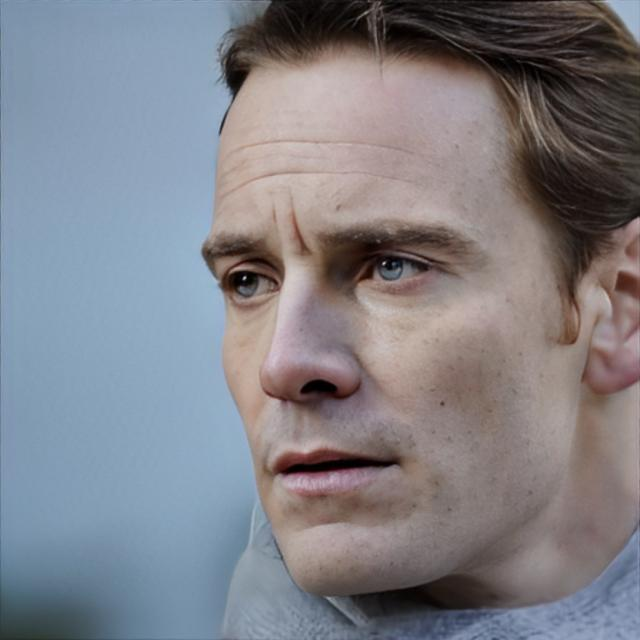fear: (197, 42, 587, 600)
